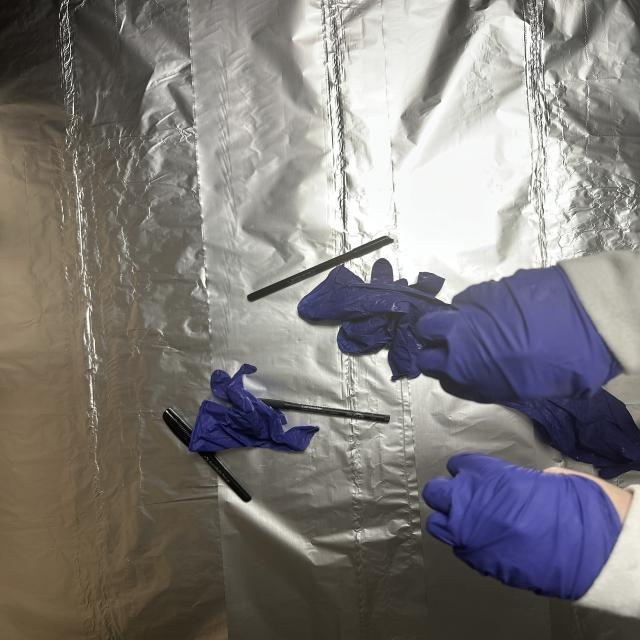glove_partial: (417, 444, 635, 603), (408, 268, 624, 405)
